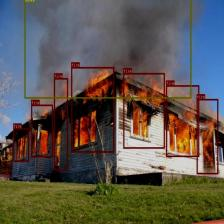fire: (71, 67, 114, 152), (123, 73, 165, 148), (166, 85, 199, 157), (196, 99, 218, 174), (54, 78, 68, 170), (31, 104, 53, 157), (13, 128, 29, 161)
smoke: (24, 0, 191, 98)
